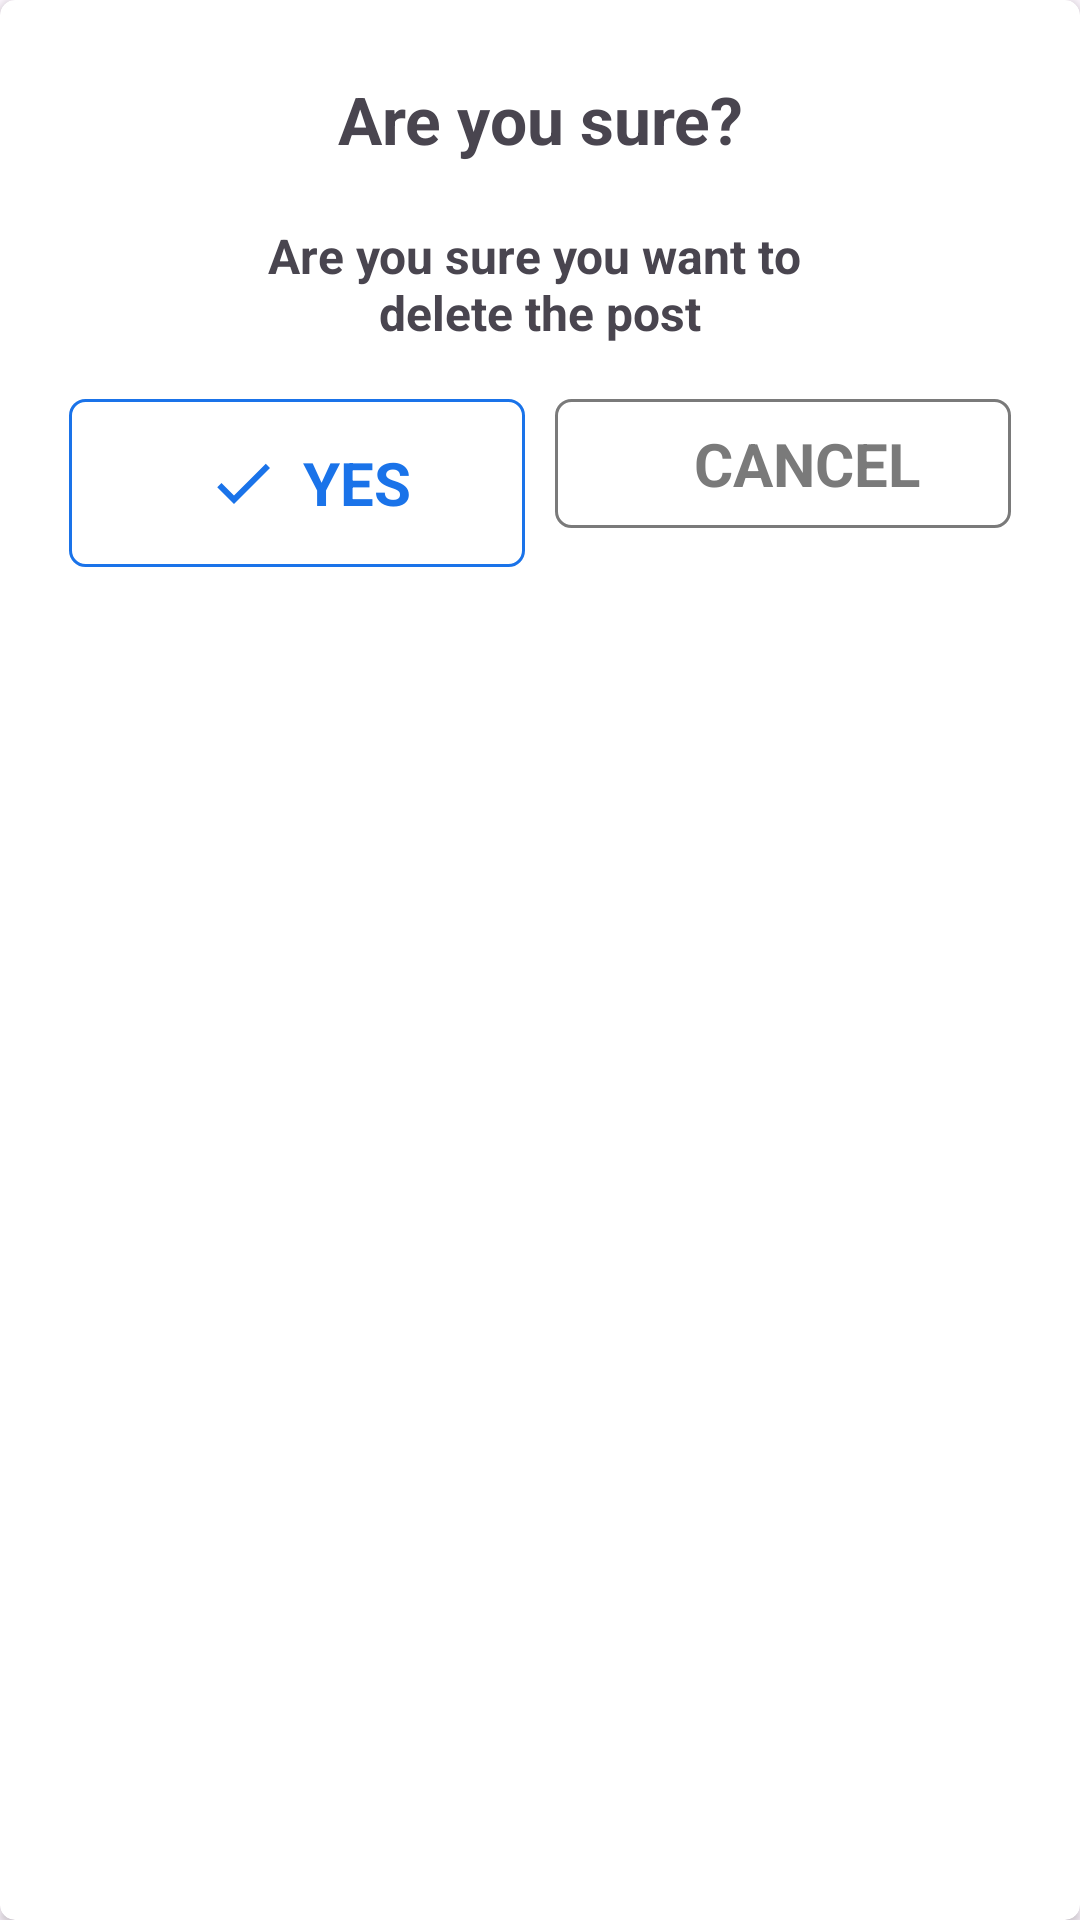

Icon click points for this 1080 × 1920 phone screenshot, format (x=x, y=y):
check: (x=243, y=484)
